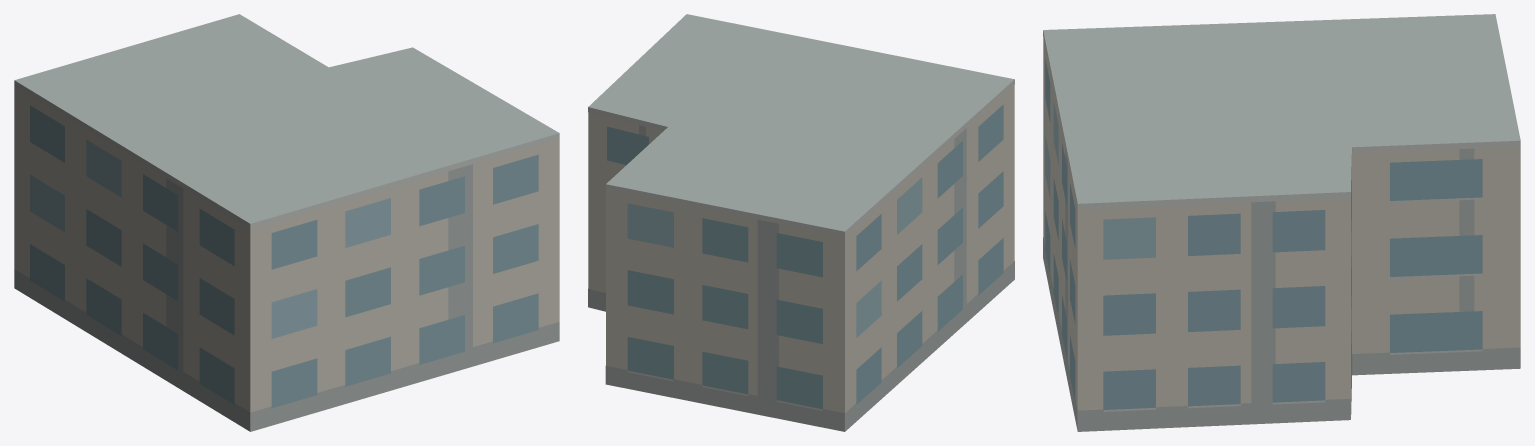
Rendered from survey-upis-33008293.glb.
3 renders of one model, left to right at view 1: azimuth 30°, elevation 25°; view 2: azimuth 150°, elevation 25°; view 3: azimuth 270°, elevation 25°, orthographic. The views are drawn at different scales.
Parts seen in each view (by area): view 1: survey-upis-33008293.tmp; view 2: survey-upis-33008293.tmp; view 3: survey-upis-33008293.tmp.
Boxes of the visible parts, x1,y1,x2,y2 form: survey-upis-33008293.tmp: (14, 14, 559, 431); survey-upis-33008293.tmp: (588, 14, 1014, 431); survey-upis-33008293.tmp: (1043, 14, 1520, 431).
Size of the model in its own units: 16.35 by 9.15 by 17.38.
